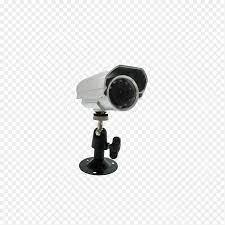tutu: (66, 60, 152, 123)
